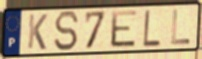7: (84, 10, 108, 51)
E: (110, 9, 139, 50)
K: (26, 13, 49, 51)
L: (142, 9, 162, 48), (170, 9, 191, 46)
S: (53, 10, 81, 53)
